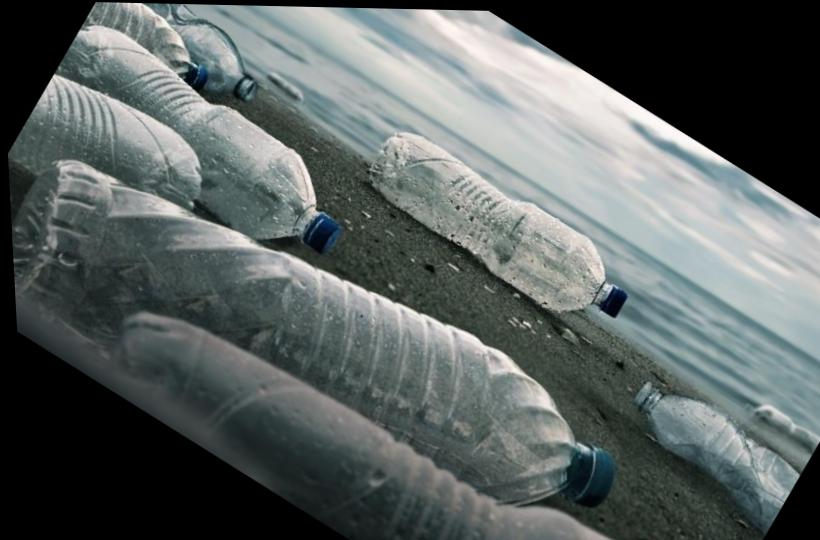plastic: (5, 89, 775, 540), (1, 13, 374, 329), (352, 114, 651, 346), (600, 367, 808, 540), (85, 2, 281, 117)
